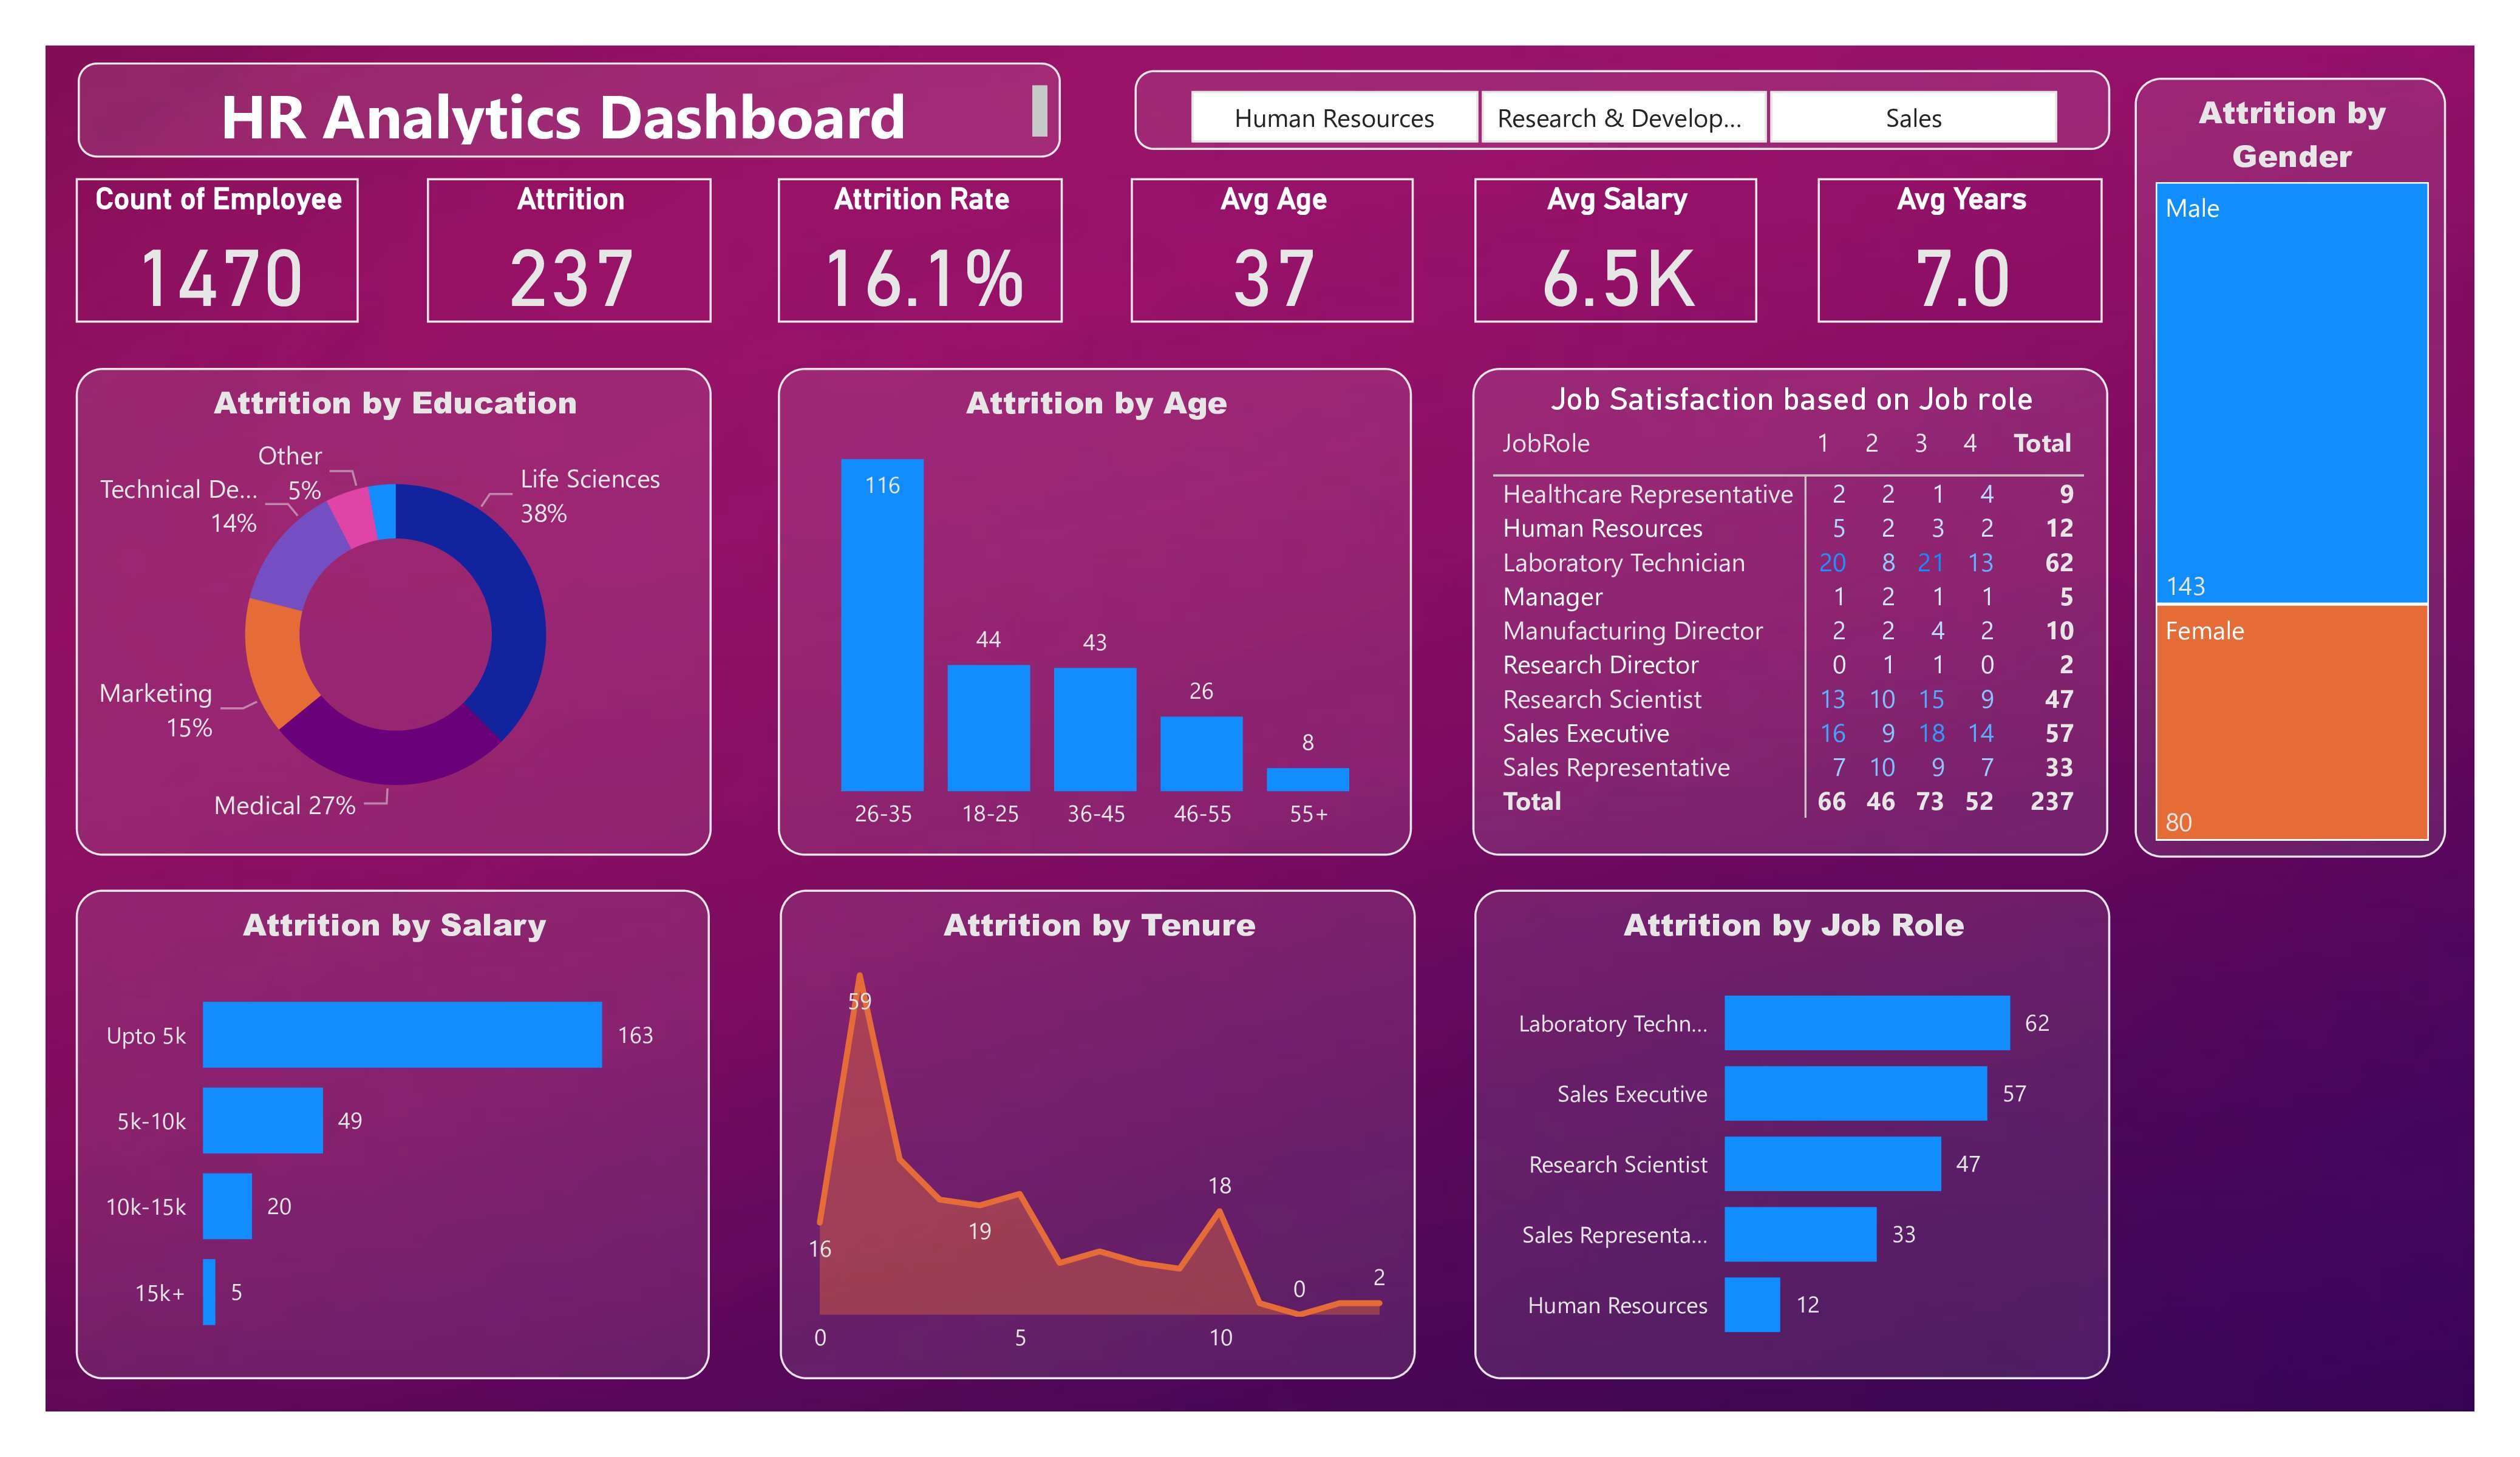

This screenshot's page, from the dashboard's own definition file:
{"tool":"powerbi","page":{"name":"Page 1","canvas":[1280,720],"ordinal":0},"visuals":[{"type":"card","title":"Count of Employee","fields":{"Values":["CountNonNull(Sheet1.EmpID)"]},"box":[16,70,149.3,75.6],"z":0},{"type":"card","title":"Attrition","fields":{"Values":["Sum(Sheet1.AttritionCount)"]},"box":[201.2,70,149.3,75.6],"z":1000},{"type":"card","title":"Attrition Rate","fields":{"Values":["Sheet1.AttritionRate"]},"box":[386.4,70,149.3,75.6],"z":2000},{"type":"card","title":"Avg Age","fields":{"Values":["Avg(Sheet1.Age)"]},"box":[571.6,70,149.3,75.6],"z":3000},{"type":"card","title":"Avg Salary","fields":{"Values":["Avg(Sheet1.MonthlyIncome)"]},"box":[753,70,149.3,75.6],"z":4000},{"type":"card","title":"Avg Years","fields":{"Values":["Avg(Sheet1.YearsAtCompany)"]},"box":[934.5,70,149.3,75.6],"z":5000},{"type":"donutChart","title":"Attrition by Education","fields":{"Category":["Sheet1.EducationField"],"Y":["Sum(Sheet1.AttritionCount)"]},"box":[16,170.1,334.5,257],"z":6000},{"type":"columnChart","title":"Attrition by Age","fields":{"Category":["Sheet1.AgeGroup"],"Y":["Sum(Sheet1.AttritionCount)"]},"box":[385.8,170.1,334.5,257],"z":7000},{"type":"pivotTable","title":"Job Satisfaction based on Job role","fields":{"Rows":["Sheet1.JobRole"],"Columns":["Sheet1.JobSatisfaction"],"Values":["Sum(Sheet1.AttritionCount)"]},"box":[752.4,170.1,334.5,257],"z":8000},{"type":"barChart","title":"Attrition by Salary","fields":{"Category":["Sheet1.SalarySlab"],"Y":["Sum(Sheet1.AttritionCount)"]},"box":[15.9,445.5,334.6,257.3],"z":9000},{"type":"barChart","title":"Attrition by Job Role","fields":{"Y":["Sum(Sheet1.AttritionCount)"],"Category":["Sheet1.JobRole"]},"box":[753.1,445.5,334.6,257.3],"z":10000},{"type":"areaChart","title":"Attrition by Tenure","fields":{"Category":["Sheet1.YearsAtCompany"],"Y":["Sum(Sheet1.AttritionCount)"]},"box":[387.3,445.5,334.6,257.3],"z":11000},{"type":"treemap","title":"Attrition by Gender","fields":{"Group":["Sheet1.Gender"],"Values":["Sum(Sheet1.AttritionCount)"]},"box":[1101.1,16.5,163.6,411.8],"z":12000},{"type":"slicer","fields":{"Values":["Sheet1.Department"]},"box":[573.5,12.9,514.7,42.3],"z":13000},{"type":"textbox","box":[16.5,9.2,518.4,49.6],"z":13001}]}

Visuals, with their boxes in screenshot pixels (x1, y1, x2, y2):
"Count of Employee" card: {"x1": 38, "y1": 169, "x2": 327, "y2": 316}
"Attrition" card: {"x1": 397, "y1": 169, "x2": 687, "y2": 316}
"Attrition Rate" card: {"x1": 757, "y1": 169, "x2": 1047, "y2": 316}
"Avg Age" card: {"x1": 1116, "y1": 169, "x2": 1406, "y2": 316}
"Avg Salary" card: {"x1": 1468, "y1": 169, "x2": 1759, "y2": 316}
"Avg Years" card: {"x1": 1821, "y1": 169, "x2": 2111, "y2": 316}
"Attrition by Education" donutChart: {"x1": 38, "y1": 363, "x2": 687, "y2": 862}
"Attrition by Age" columnChart: {"x1": 755, "y1": 363, "x2": 1405, "y2": 862}
"Job Satisfaction based on Job role" pivotTable: {"x1": 1468, "y1": 363, "x2": 2117, "y2": 862}
"Attrition by Salary" barChart: {"x1": 38, "y1": 897, "x2": 687, "y2": 1397}
"Attrition by Job Role" barChart: {"x1": 1469, "y1": 897, "x2": 2119, "y2": 1397}
"Attrition by Tenure" areaChart: {"x1": 758, "y1": 897, "x2": 1408, "y2": 1397}
"Attrition by Gender" treemap: {"x1": 2144, "y1": 65, "x2": 2462, "y2": 864}
slicer - Sheet1.Department: {"x1": 1120, "y1": 58, "x2": 2119, "y2": 140}
textbox: {"x1": 39, "y1": 50, "x2": 1045, "y2": 147}
